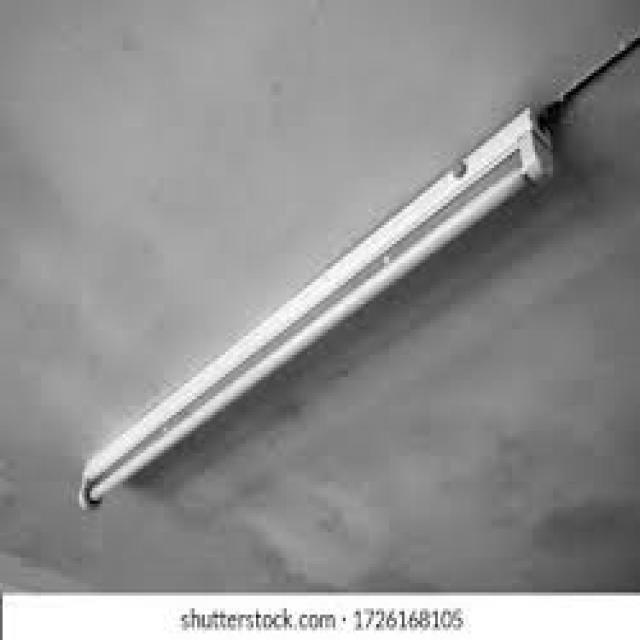light: (77, 84, 558, 516)
